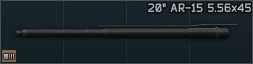AR-15 5.56x45 20 inch barrel: (0, 0, 253, 64)
